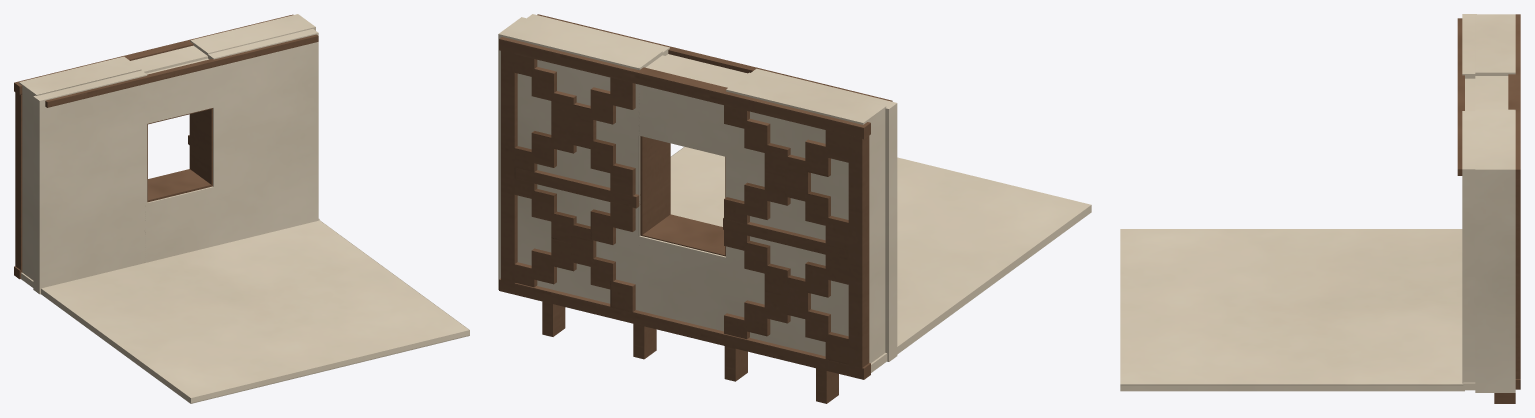
The model's file is med_window_jetty.glb.
The picture shows the model from 3 angles, left to right: view 1: azimuth 30°, elevation 25°; view 2: azimuth 150°, elevation 25°; view 3: azimuth 270°, elevation 25°; orthographic projection. The views are drawn at different scales.
Parts seen in each view (by area): view 1: med_window_jetty; view 2: med_window_jetty; view 3: med_window_jetty.
Boxes of the visible parts, x1,y1,x2,y2 form: med_window_jetty: [14, 14, 469, 403]; med_window_jetty: [498, 14, 1091, 403]; med_window_jetty: [1120, 14, 1520, 403].
Bounding box in the file's own units: 4.04 × 3.04 × 4.36.
Materials: 1 (1 with a texture image).
